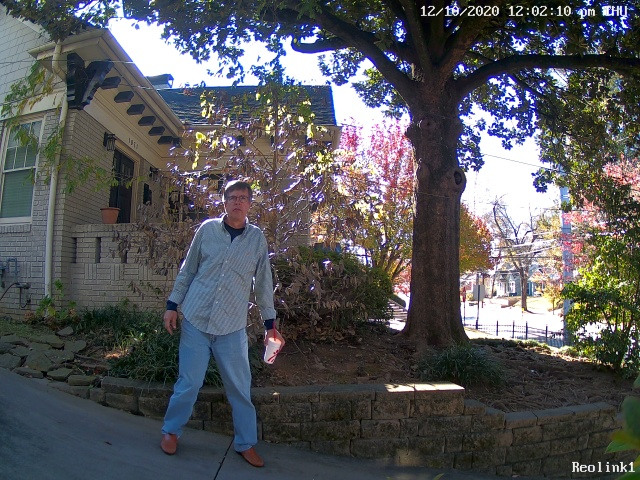person: (143, 177, 294, 475)
